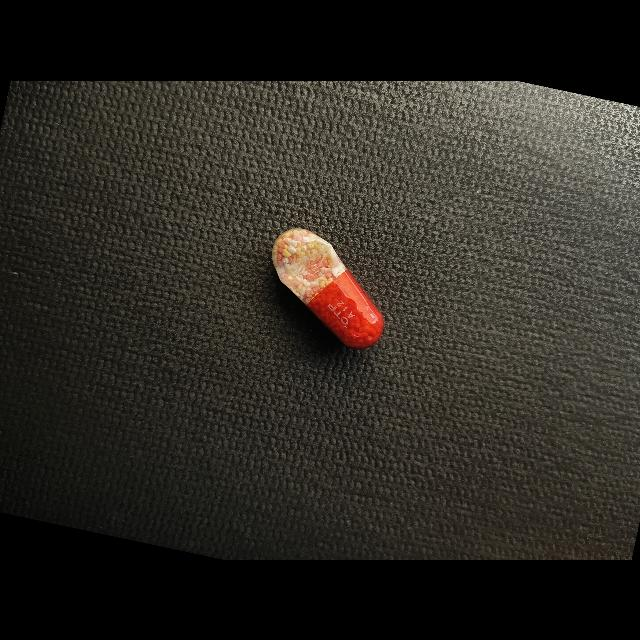Defective Capsule: (272, 227, 384, 347)
